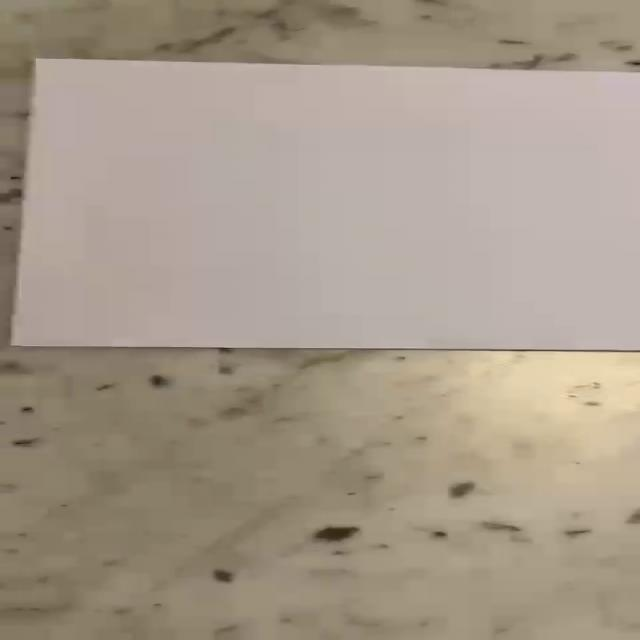road: (11, 59, 640, 350)
